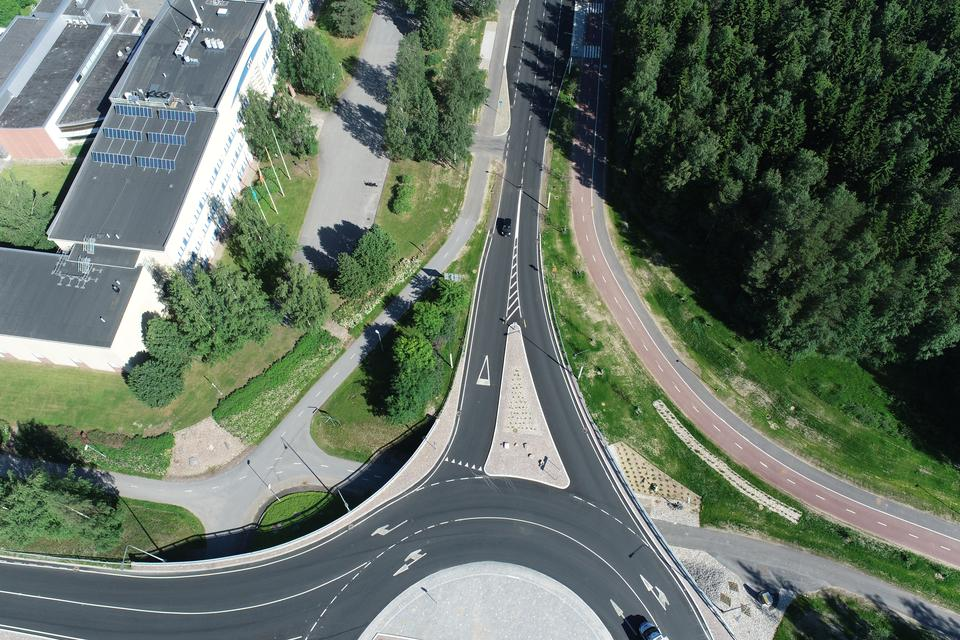intersection: (454, 126, 556, 168)
roundabout: (263, 418, 807, 640)
